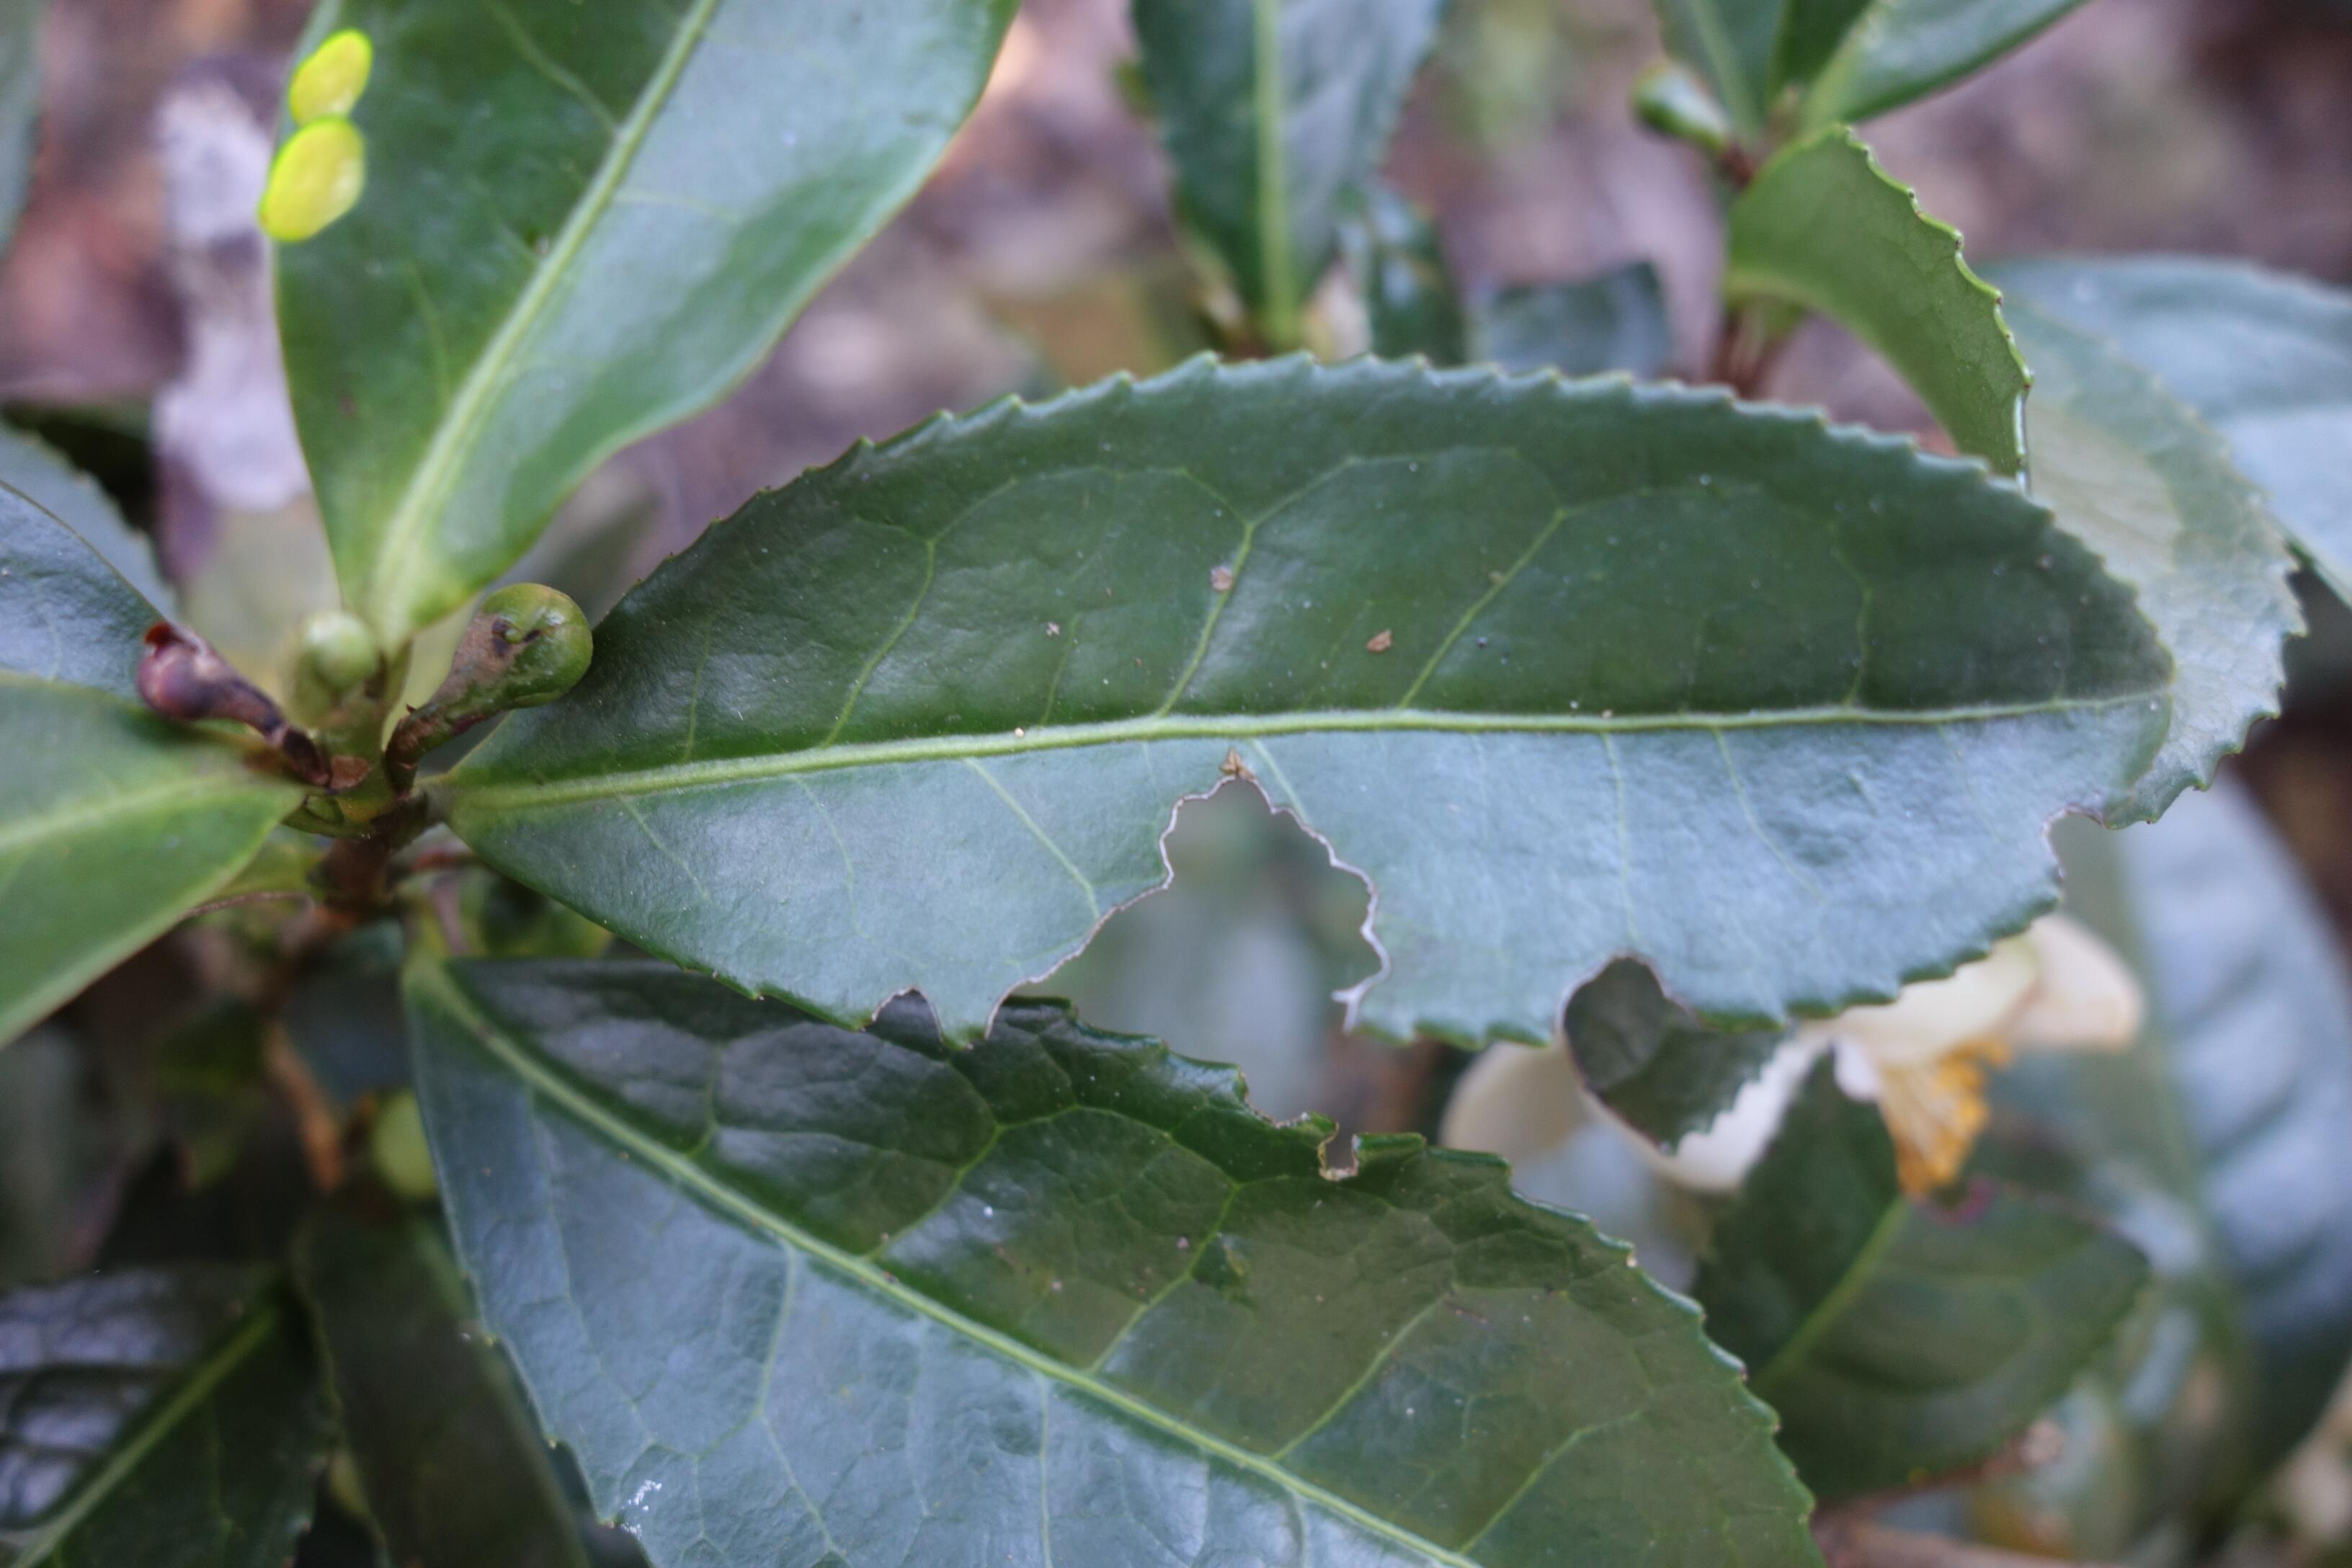chabing_high: (264, 5, 1017, 654)
chihuo_high: (430, 346, 2161, 1062)
chihuo_low: (404, 952, 1834, 1564)
